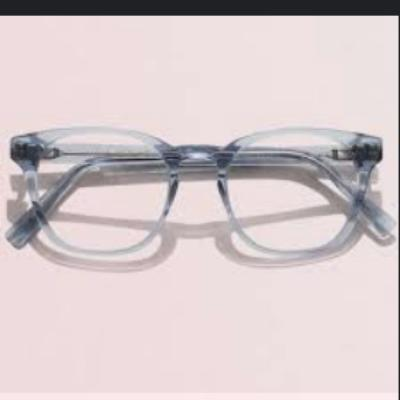glasses: (3, 121, 396, 276)
